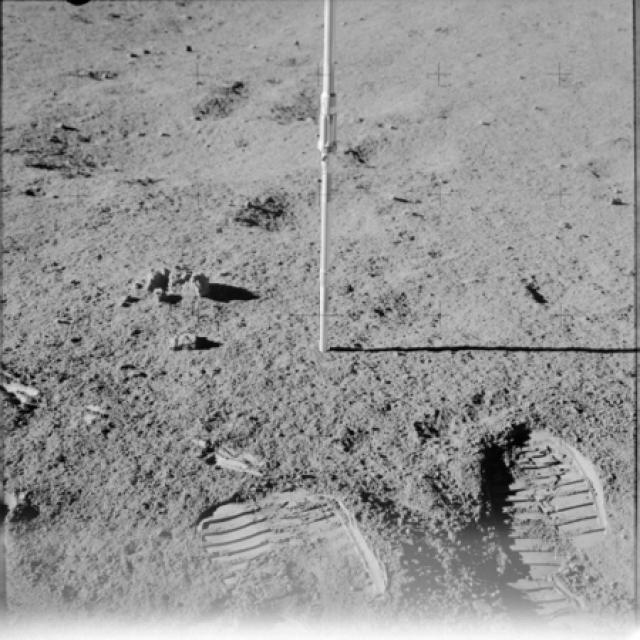crater: (19, 89, 331, 212), (339, 130, 466, 190)
rock: (121, 256, 221, 312), (160, 325, 219, 359)
